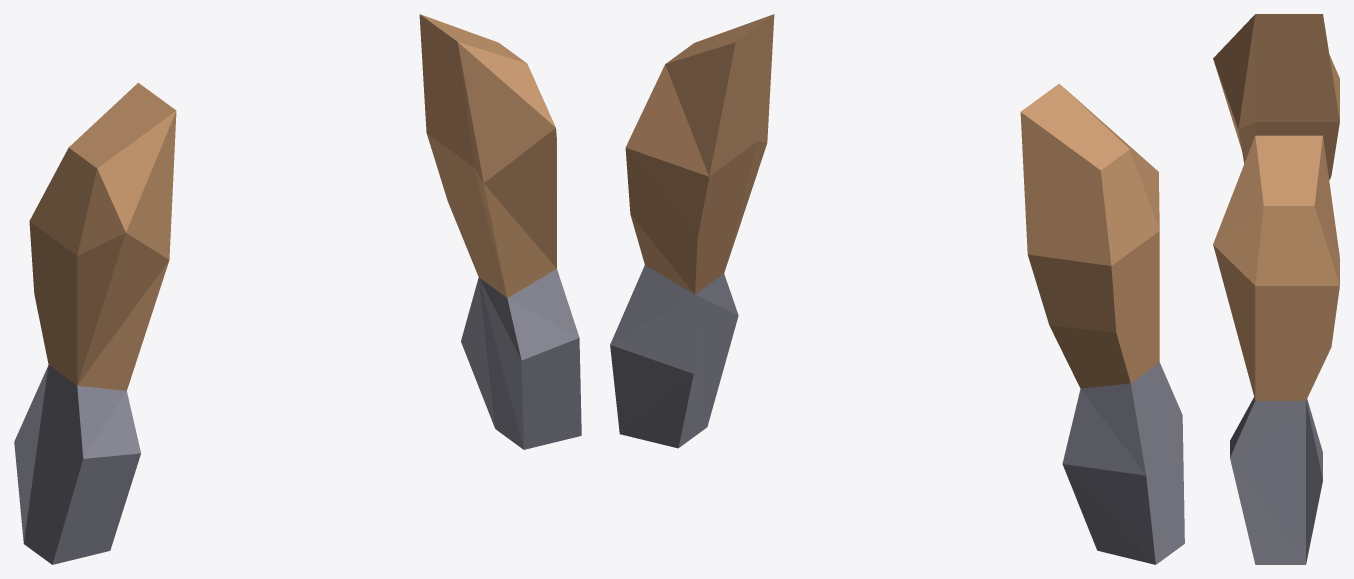
File: npc_world_yohnus_3.obj
The picture shows the model from 3 angles, left to right: view 1: azimuth 30°, elevation 25°; view 2: azimuth 150°, elevation 25°; view 3: azimuth 270°, elevation 25°; orthographic projection. The views are drawn at different scales.
Size of the model in its own units: 0.5 by 0.3828 by 0.1172.
